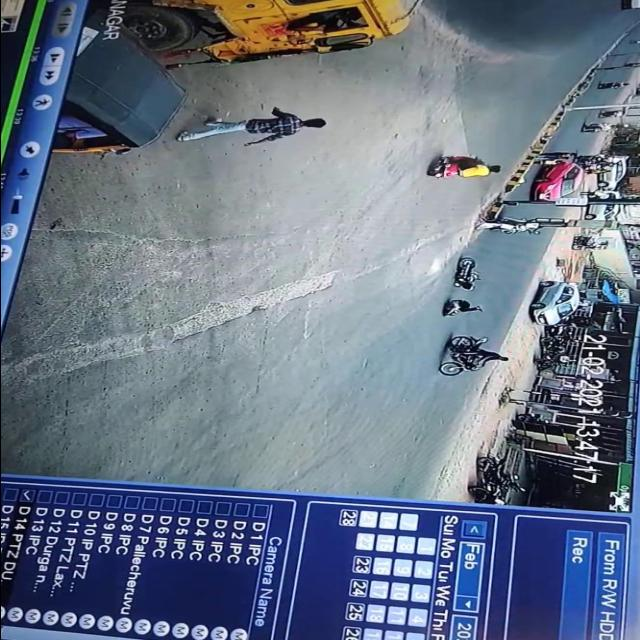accident: (431, 252, 495, 324)
